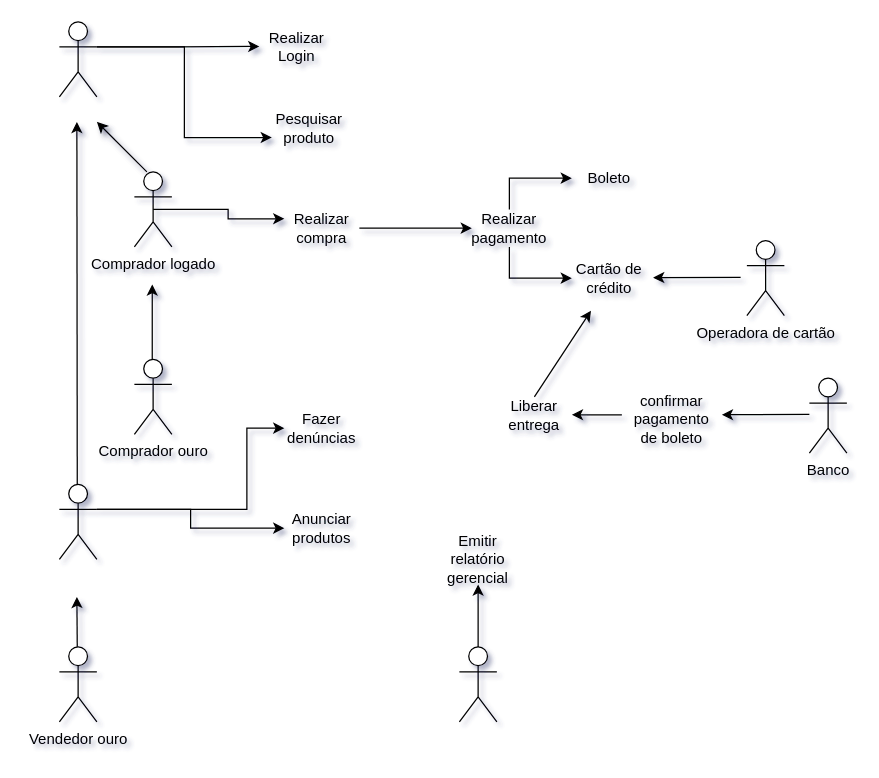
Image size: 879x778. Some labels were removed from this diagram. Here are the shapes that lost their labels. From the top down, the centre of each, then its label:
At [77,59]: "Visitante".
At [77,521]: "Vendedor logado".
At [477,684]: "Agendador de tarefas".
